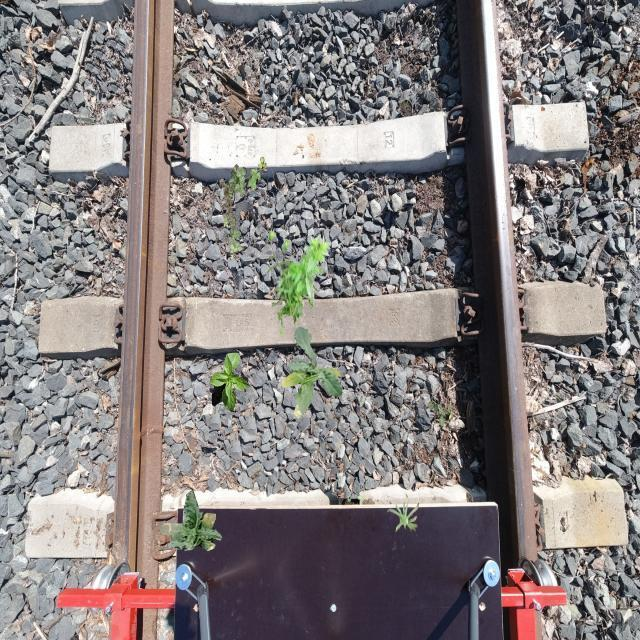Plant: (267, 228, 332, 336), (281, 326, 344, 419), (219, 157, 268, 260), (159, 489, 222, 551), (210, 353, 252, 413), (387, 498, 420, 532), (428, 396, 456, 426)
